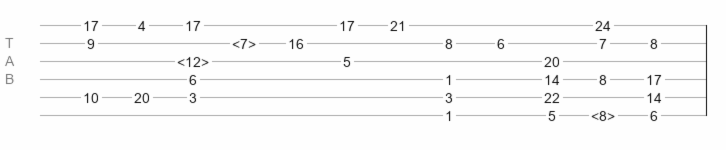1: (445, 108, 453, 118), (445, 72, 453, 82)
10: (83, 90, 99, 100)
14: (544, 72, 560, 82), (646, 90, 662, 100)
16: (288, 36, 304, 46)
17: (83, 18, 99, 28), (185, 18, 201, 28), (339, 18, 355, 28), (646, 72, 662, 82)
20: (134, 90, 150, 100), (544, 54, 560, 64)
21: (390, 18, 406, 28)
22: (544, 90, 560, 100)
24: (595, 18, 611, 28)
3: (189, 90, 197, 100), (445, 90, 453, 100)
4: (138, 18, 146, 28)
5: (343, 54, 351, 64), (548, 108, 556, 118)
6: (189, 72, 197, 82), (497, 36, 505, 46), (650, 108, 658, 118)
7: (599, 36, 607, 46)
8: (445, 36, 453, 46), (599, 72, 607, 82), (650, 36, 658, 46)
9: (87, 36, 95, 46)
harmonic: (177, 54, 209, 64), (232, 36, 256, 46), (591, 108, 615, 118)
